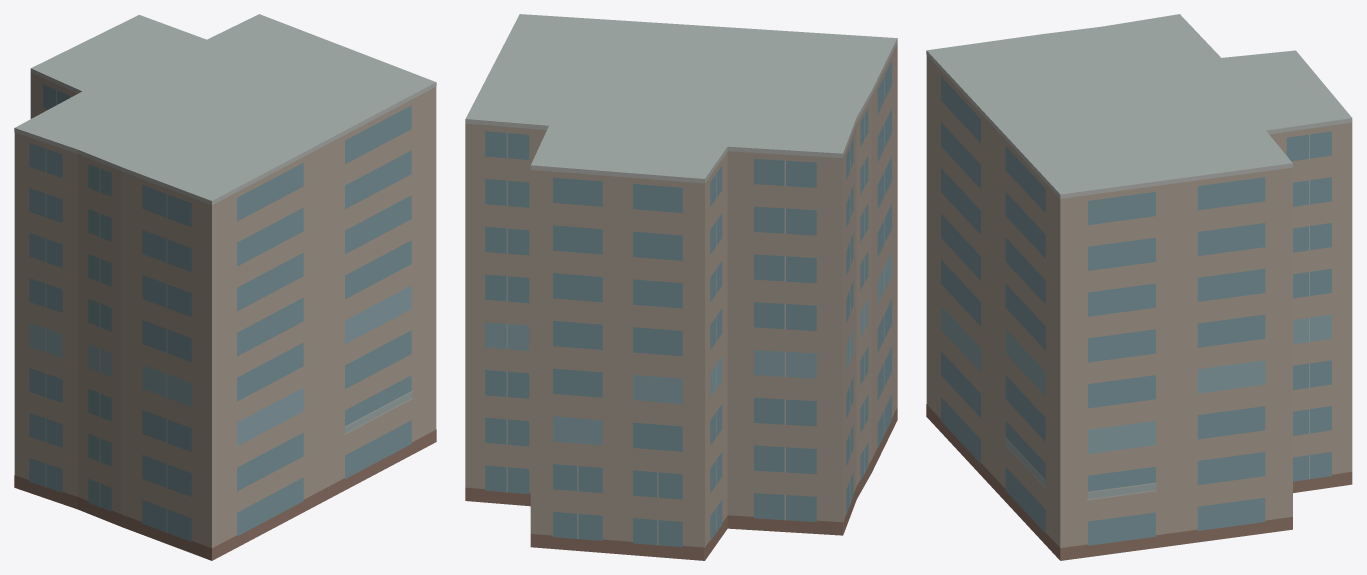
Rendered from survey-upis-33017340.glb.
The picture shows the model from 3 angles, left to right: view 1: azimuth 30°, elevation 25°; view 2: azimuth 150°, elevation 25°; view 3: azimuth 270°, elevation 25°; orthographic projection. The views are drawn at different scales.
Visible parts, largest first — view 1: survey-upis-33017340.tmp; view 2: survey-upis-33017340.tmp; view 3: survey-upis-33017340.tmp.
Boxes of the visible parts, left/top/right/bottom form: survey-upis-33017340.tmp: left=14, top=14, right=436, bottom=560; survey-upis-33017340.tmp: left=465, top=14, right=897, bottom=560; survey-upis-33017340.tmp: left=926, top=14, right=1352, bottom=560.
Bounding box in the file's own units: 21.72 × 20.55 × 21.66.
